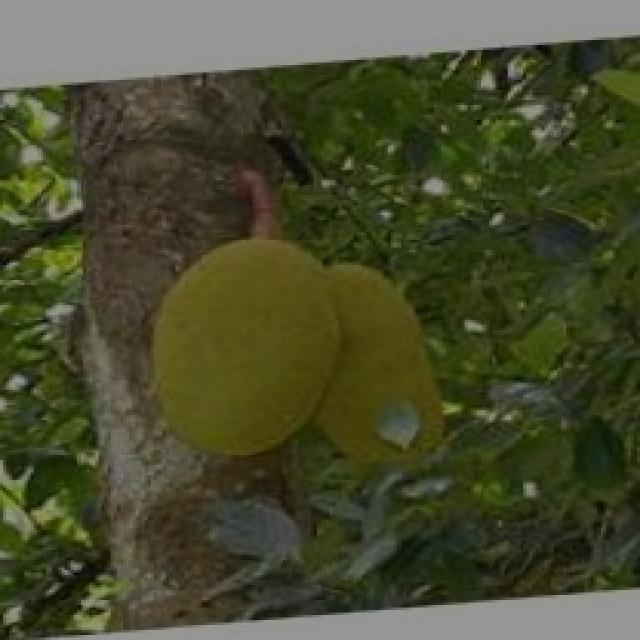Fruit: (126, 215, 452, 477)
